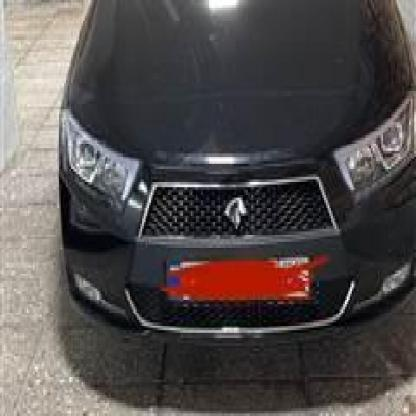Car: (47, 0, 416, 351)
